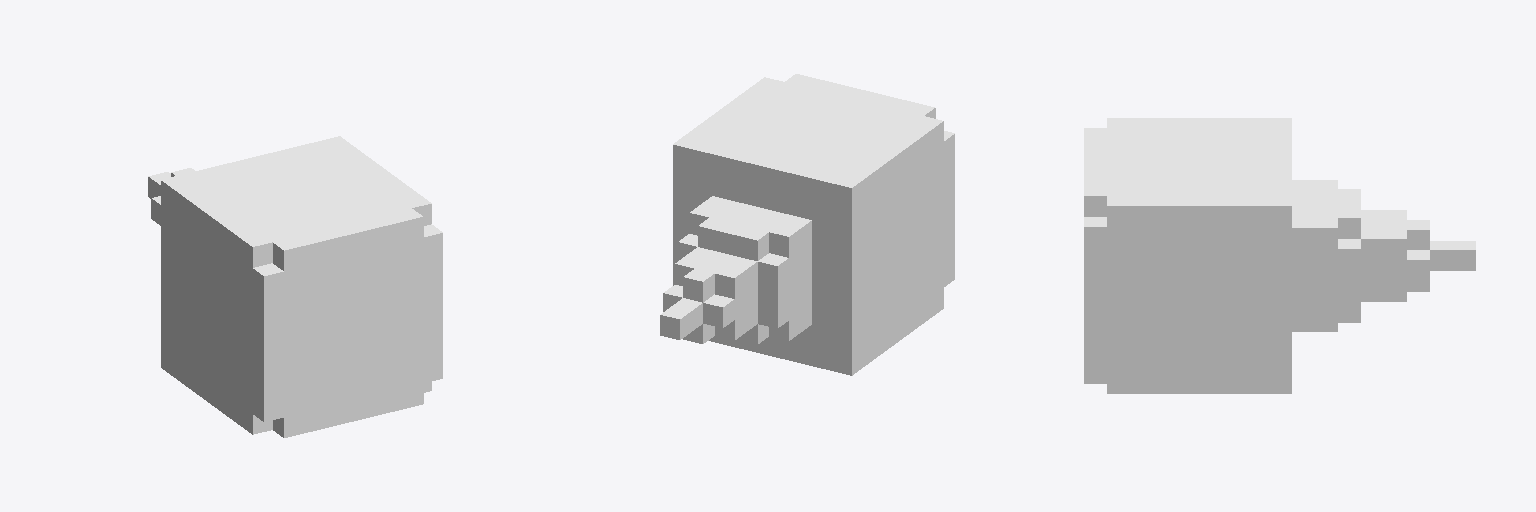
File: OSA-2.obj
3 views of the same model, side by side, from view 1: azimuth 30°, elevation 25°; view 2: azimuth 150°, elevation 25°; view 3: azimuth 270°, elevation 25° (orthographic).
Visible parts, largest first — view 1: object 1; view 2: object 1; view 3: object 1.
Part boxes in pixels (x1,y1,x2,y2): object 1: (148,136,442,437); object 1: (660,74,954,375); object 1: (1084,118,1475,393).
Bounding box in the file's own units: 0.9 × 0.9 × 1.7.